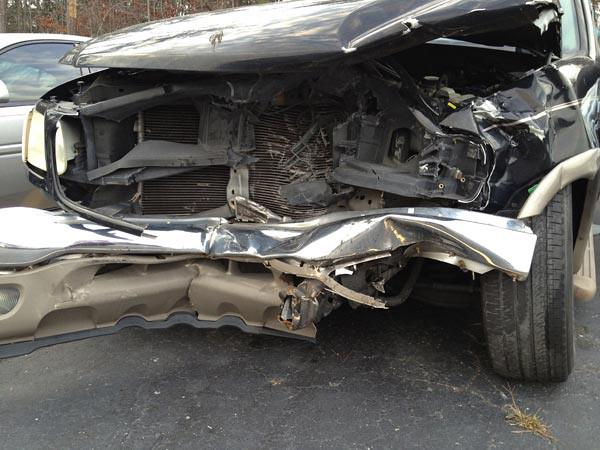Rear-windscreen-Damage: (64, 211, 510, 278)
